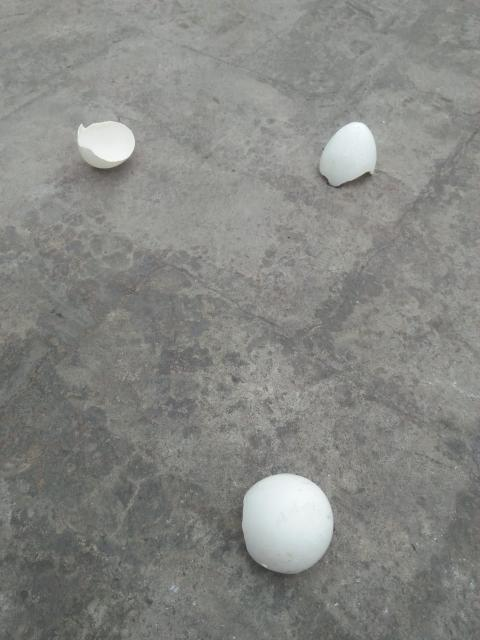Roto: (241, 472, 334, 574), (318, 120, 377, 187), (76, 120, 136, 169)
